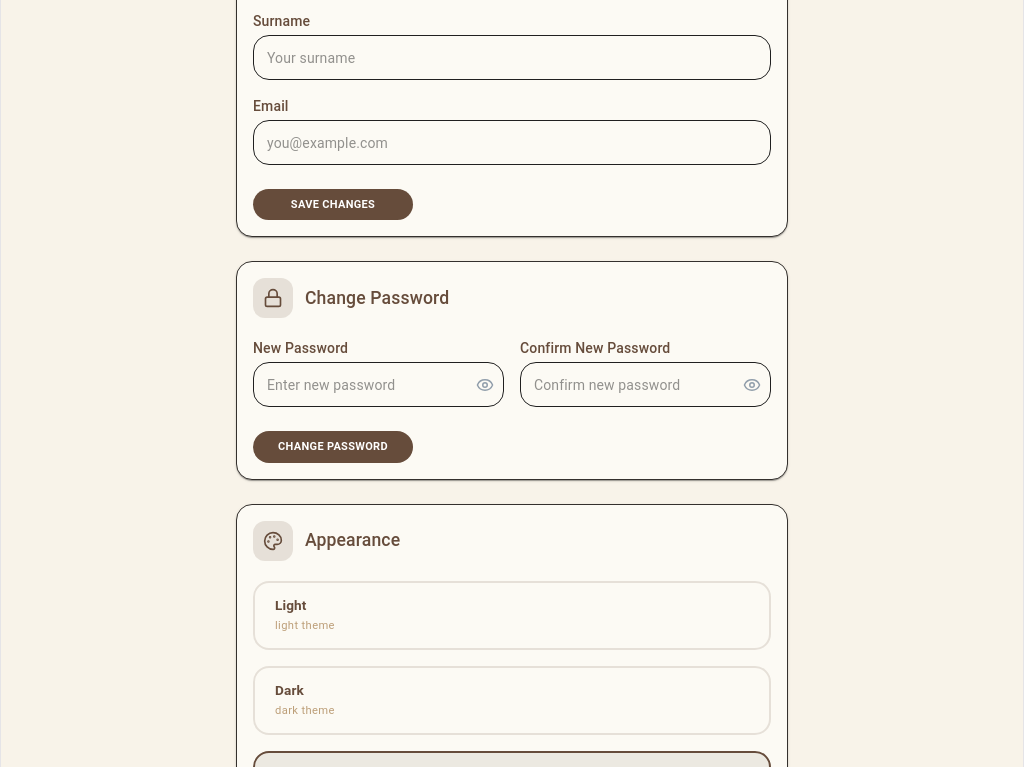
Test case: SettingsPage password form › changes the password and shows a success message
The width and height of the screenshot is (1024, 767).
(page scrolled)
Type "Password123" into the password field with placeholder "Enter new password" at point(356, 385), box [253,358,460,411]
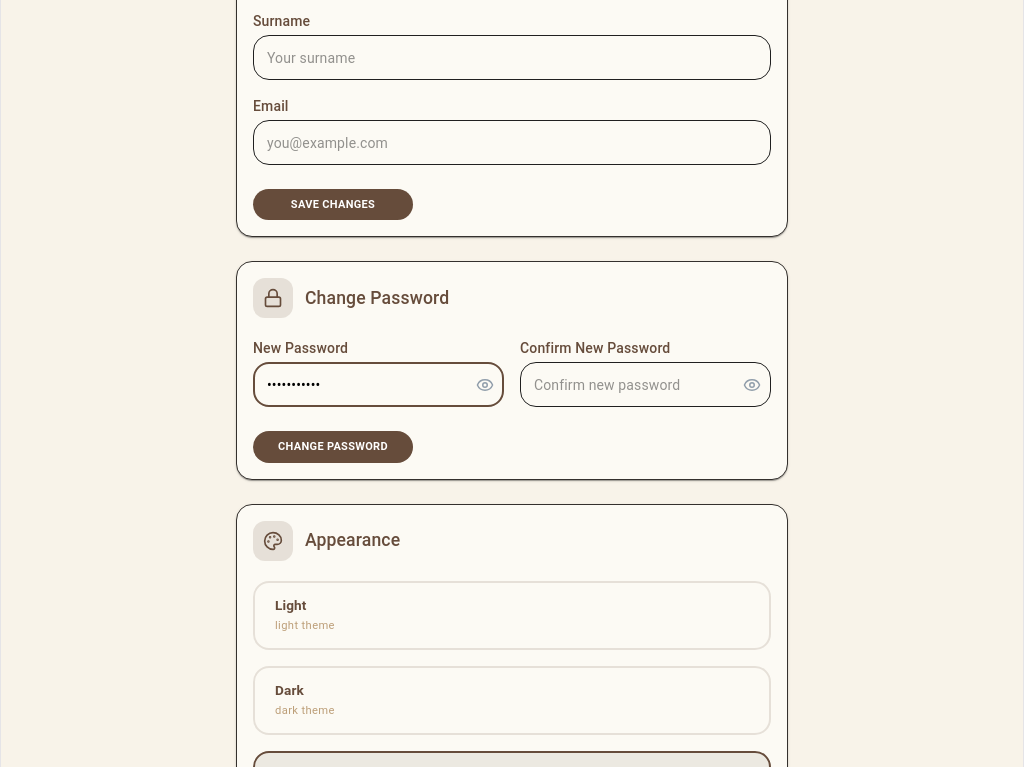
Type "Password123" into the password field with placeholder "Confirm new password" at point(624, 385), box [520,358,727,411]
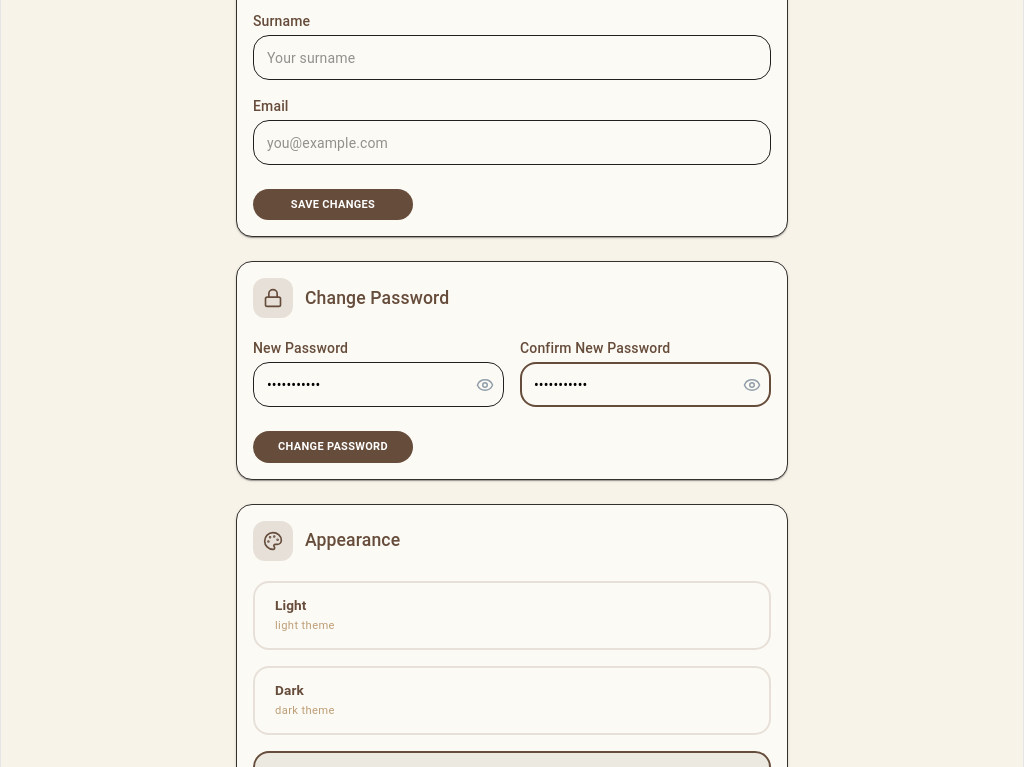
Click the button "Change Password" at point(333, 447), box [253,431,413,463]
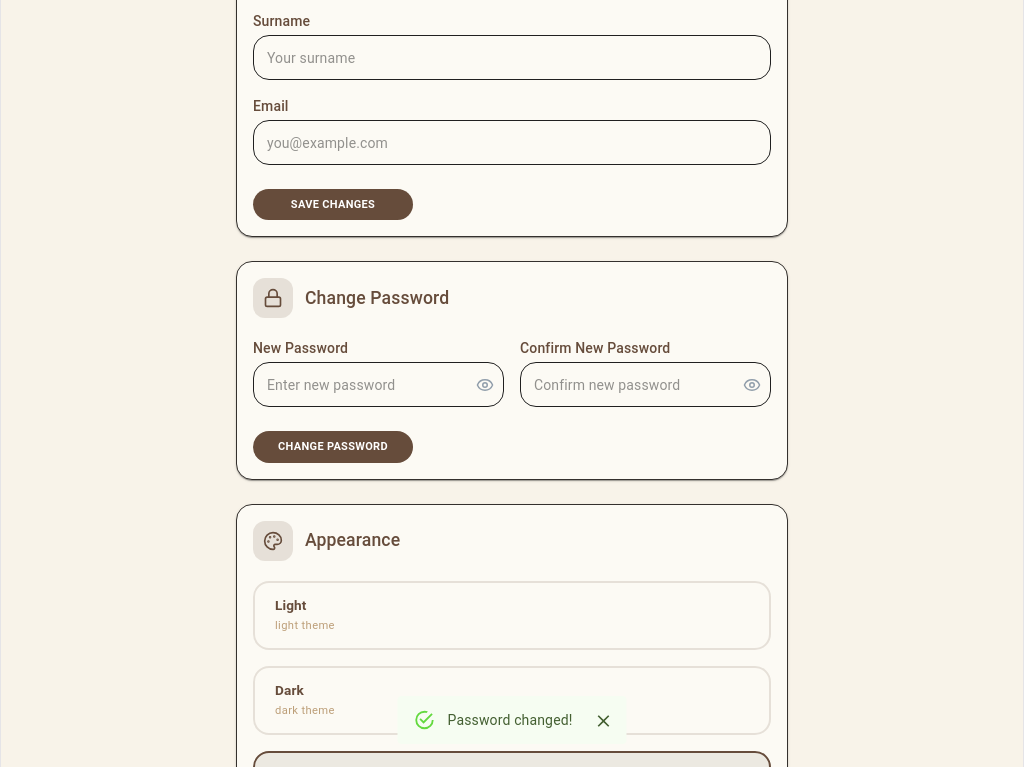
Result: the text "Password changed!" is shown at [448,712,572,728]
